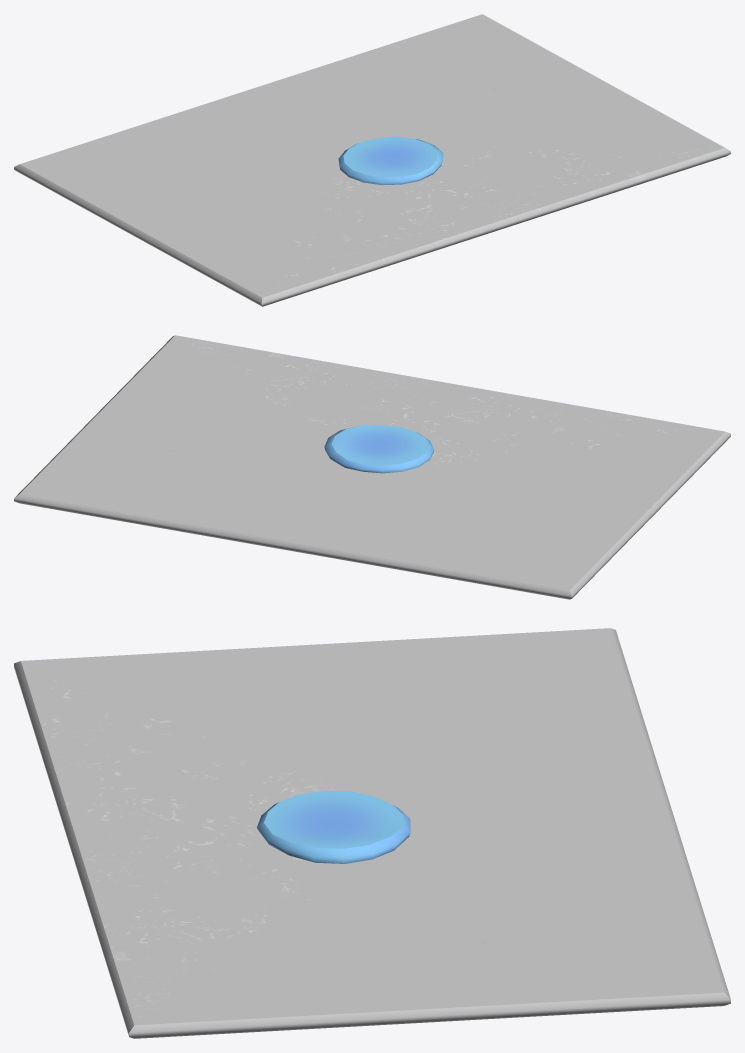
Rendered from letter.gltf.
3 views of the same model, one above another, from view 1: azimuth 30°, elevation 25°; view 2: azimuth 150°, elevation 25°; view 3: azimuth 270°, elevation 25° (orthographic). The views are drawn at different scales.
Visible parts, largest first — view 1: envelope_StingrayPBS2_0; view 2: envelope_StingrayPBS2_0; view 3: envelope_StingrayPBS2_0.
Boxes of the visible parts, x1=… form: envelope_StingrayPBS2_0: x1=14, y1=14, x2=730, y2=306; envelope_StingrayPBS2_0: x1=14, y1=335, x2=730, y2=599; envelope_StingrayPBS2_0: x1=14, y1=628, x2=730, y2=1038.
Size of the model in its own units: 3.11 by 0.0908 by 2.34.
Materials: 1 (1 with a texture image).
